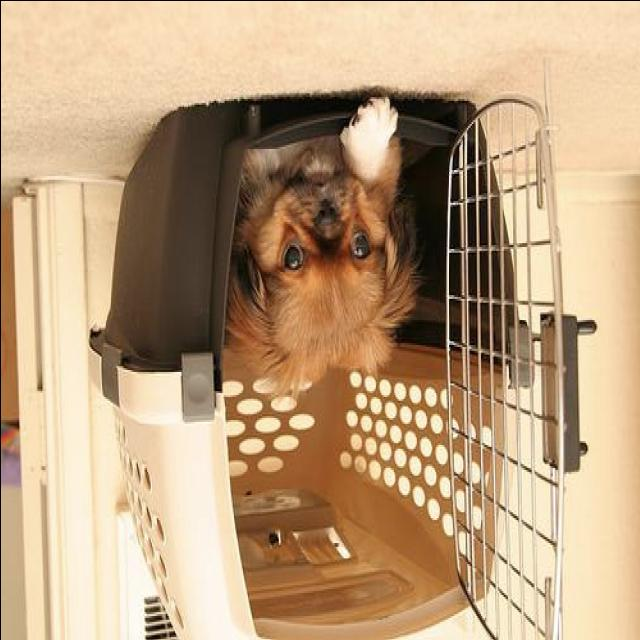pekinese: (222, 90, 428, 404)
